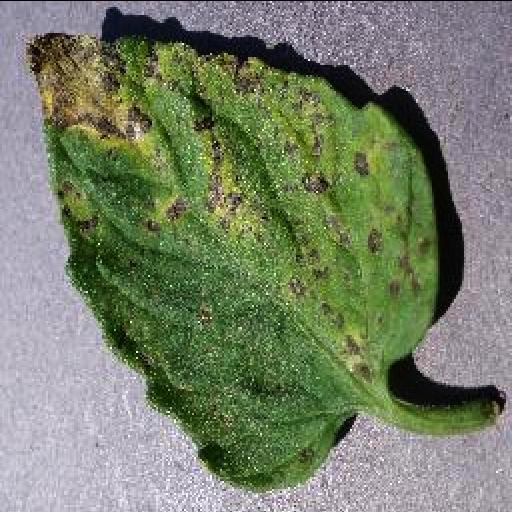disease_tomato: (29, 30, 439, 484)
